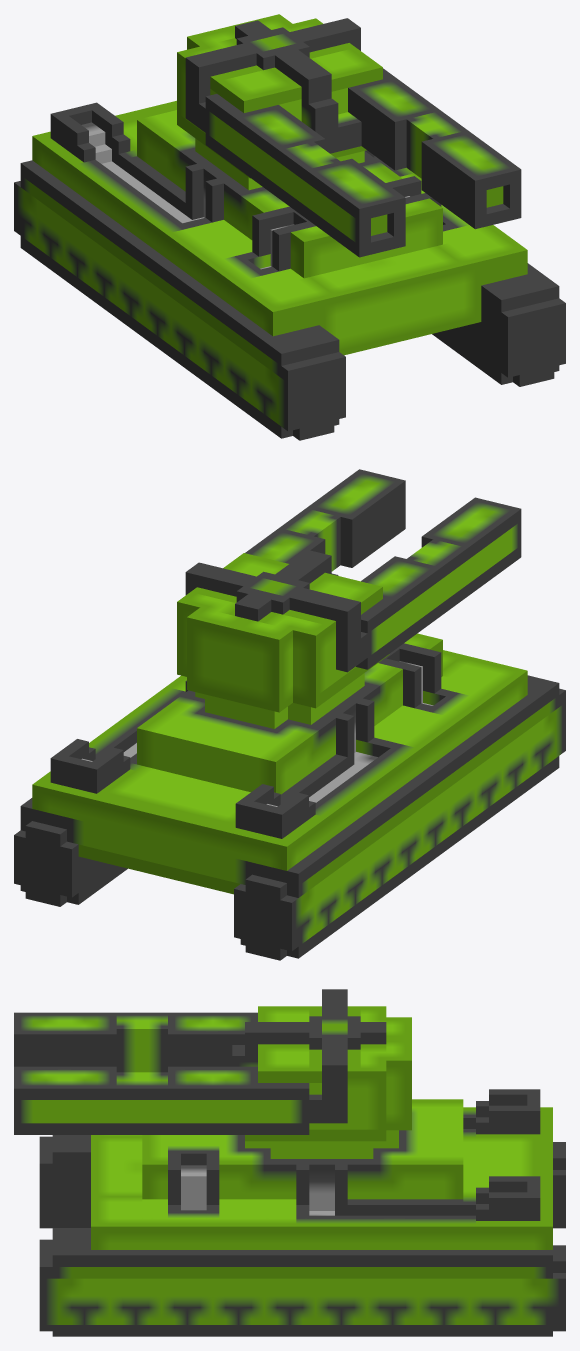
Rendered from Tank_2.fbx.
3 views of the same model, one above another, from view 1: azimuth 30°, elevation 25°; view 2: azimuth 150°, elevation 25°; view 3: azimuth 270°, elevation 25° (orthographic). The views are drawn at different scales.
Parts seen in each view (by area): view 1: Matrix_4, Matrix_5; view 2: Matrix_4, Matrix_5; view 3: Matrix_4, Matrix_5.
Part boxes in pixels (box(x1,y1,x2,y2)): Matrix_4: box(14, 100, 565, 440); Matrix_5: box(177, 14, 521, 257); Matrix_4: box(14, 633, 565, 960); Matrix_5: box(177, 469, 521, 712); Matrix_4: box(39, 1089, 565, 1336); Matrix_5: box(14, 989, 411, 1141).
Bounding box in the file's own units: 24 × 21 × 43.
